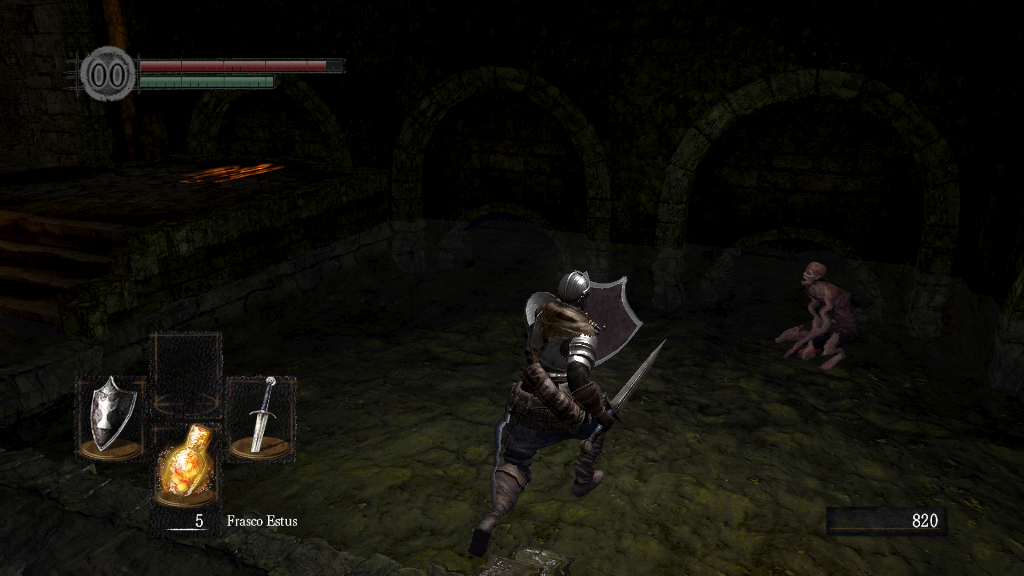health: (138, 58, 343, 71)
hollow: (775, 260, 858, 373)
humanity: (80, 45, 136, 102)
player: (468, 269, 669, 556)
souls: (825, 506, 945, 536)
stamina: (138, 74, 274, 88)
